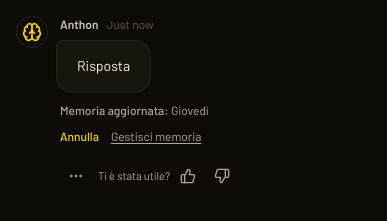
Test: MessageList rendered interactions › explains a refused undo after a newer change
Check: the text "Memoria aggiornata:" is shown, box [60,103,168,117]
What coordinates should you click on to do the following:
click the button "Annulla"
I would click on:
 (79, 136)
Its box is [60,120,99,152].
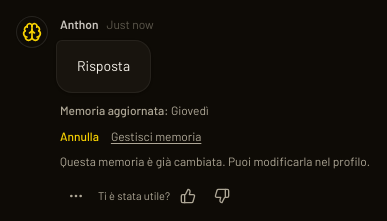
Check: the message shows "Questa memoria è già cambiata", box [60,154,370,168]
